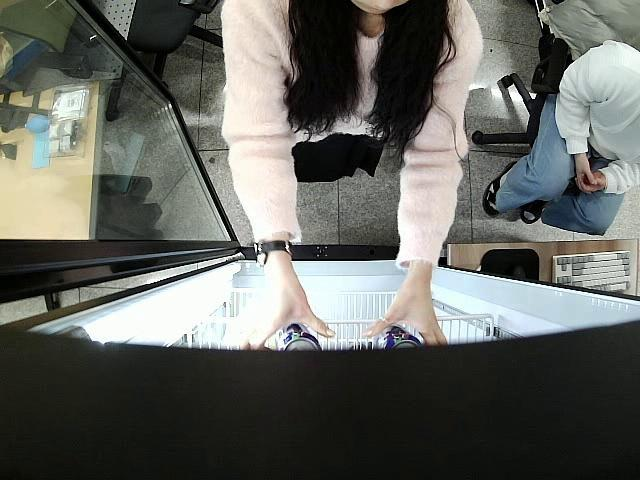14_welchsGrape: (274, 320, 322, 356), (372, 324, 424, 352)
